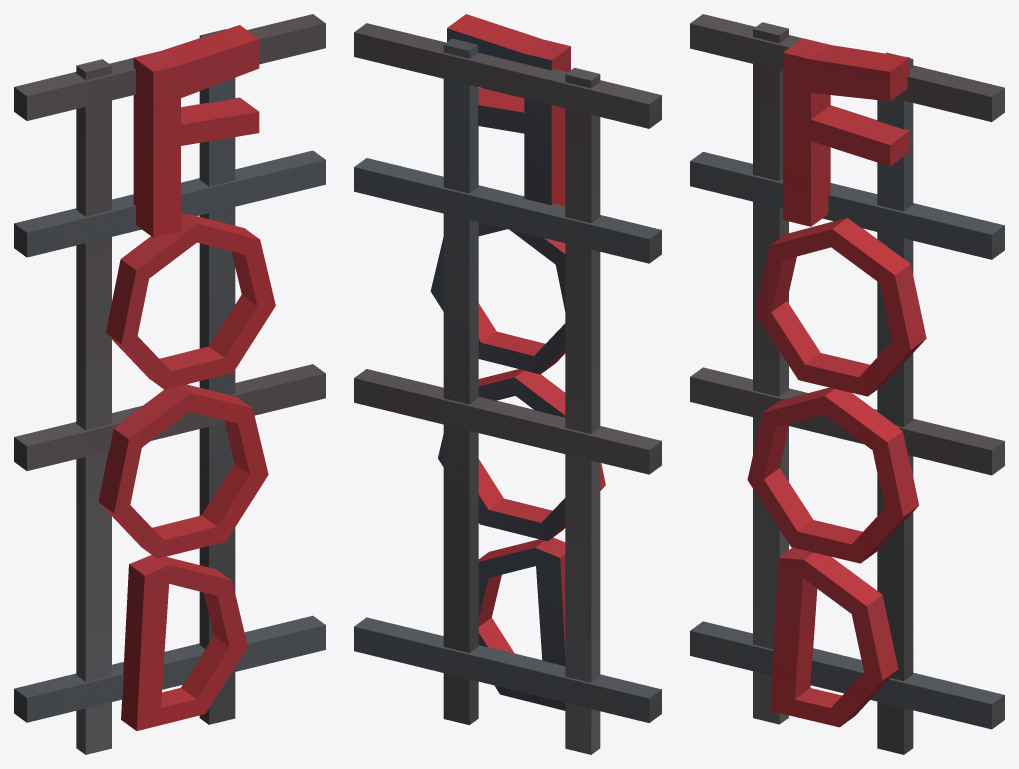
File: SM_Hoarding_02_B.FBX
The picture shows the model from 3 angles, left to right: view 1: azimuth 30°, elevation 25°; view 2: azimuth 150°, elevation 25°; view 3: azimuth 330°, elevation 25°; orthographic projection. The views are drawn at different scales.
Parts seen in each view (by area): view 1: SM_Hoarding_02_B; view 2: SM_Hoarding_02_B; view 3: SM_Hoarding_02_B.
Part boxes in pixels (x1,y1,x2,y2): SM_Hoarding_02_B: (14,14,325,754); SM_Hoarding_02_B: (354,14,661,754); SM_Hoarding_02_B: (690,14,1004,754).
Size of what is drawn, in the model's own units: 308 by 53.39 by 680.
